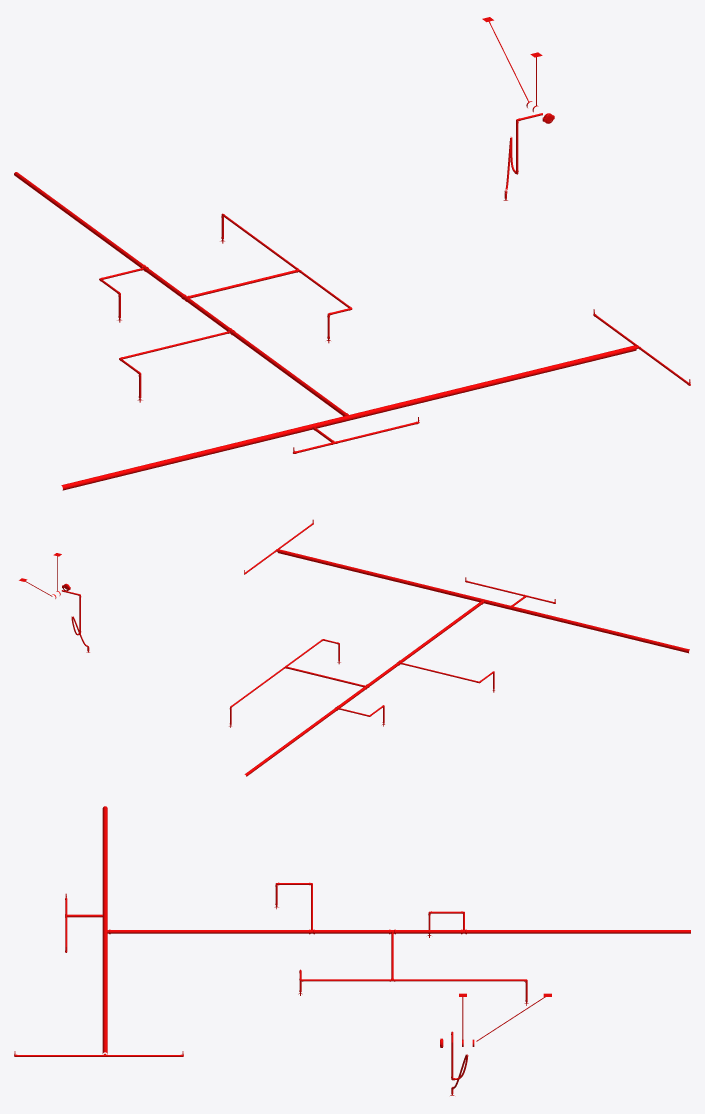
File: fire.glb
3 renders of one model, top to bottom at view 1: azimuth 30°, elevation 25°; view 2: azimuth 150°, elevation 25°; view 3: azimuth 270°, elevation 25°, orthographic. The views are drawn at different scales.
Parts seen in each view (by area): view 1: layer:fire; view 2: layer:fire; view 3: layer:fire.
Part boxes in pixels (bbox=[...]): layer:fire: bbox=[14, 17, 690, 490]; layer:fire: bbox=[19, 519, 689, 776]; layer:fire: bbox=[14, 806, 690, 1095].
Size of the model in its own units: 10.01 by 2.06 by 9.72.
